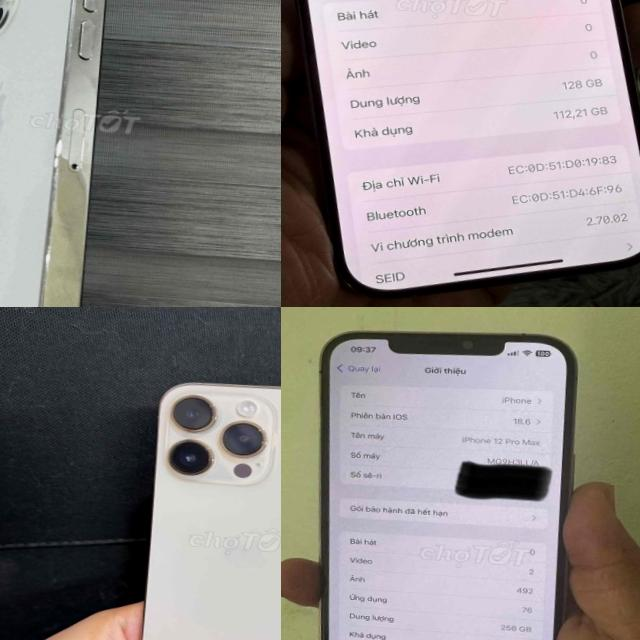gen_12_13: (294, 313, 608, 640)
gen_14: (122, 373, 281, 640), (0, 0, 138, 307)
gen_15: (281, 0, 640, 307)
screen_defect: (438, 438, 571, 522)
